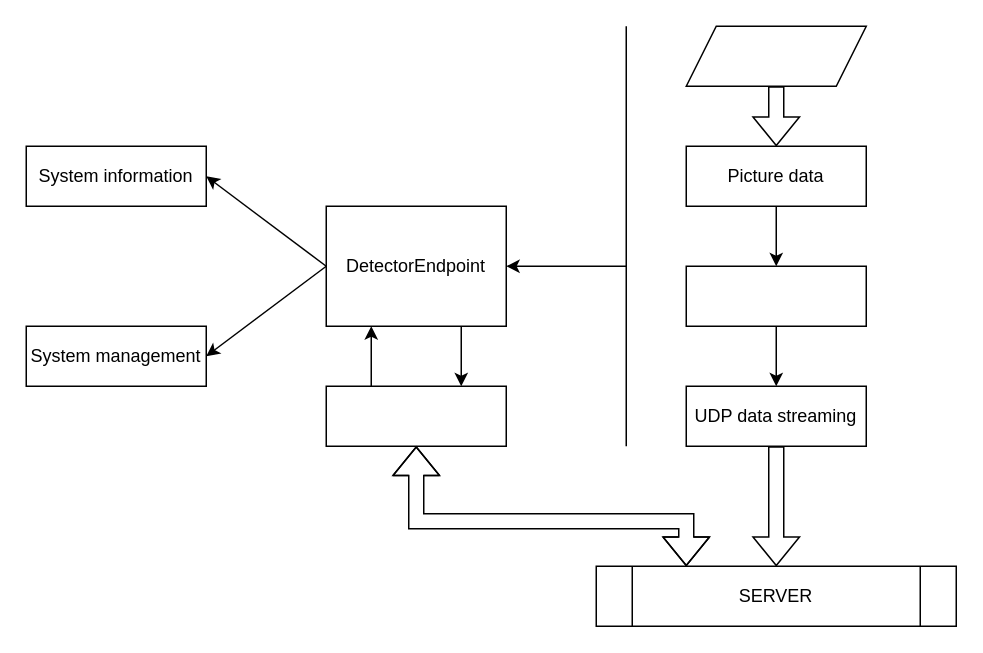
The diagram is 983 pixels wide and 653 high, and some of its shapes have lost their labels. Here are the shapes that lost their labels. From the top down, the box of each, then its label:
(685, 25, 866, 86): Camera
(685, 265, 866, 326): Splitted parts
(325, 385, 506, 446): WS event exchange
